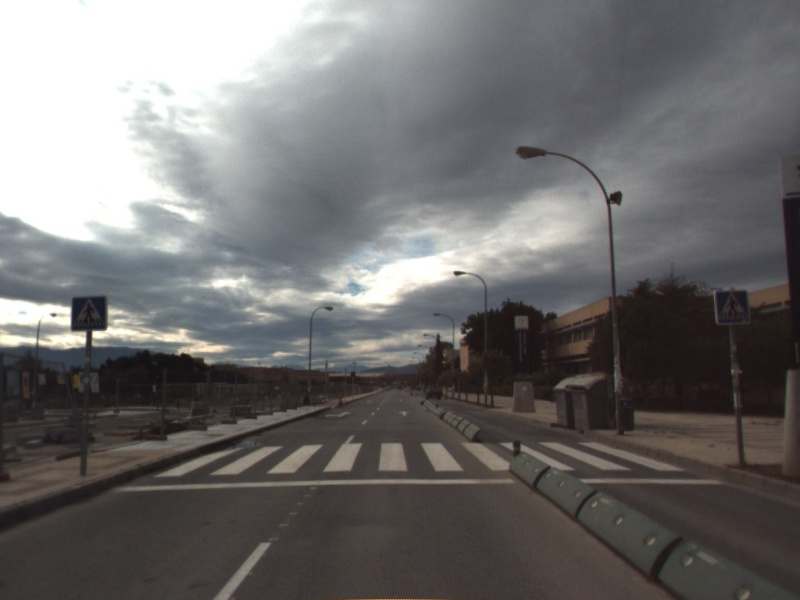STRAIGHT: (396, 408, 412, 418)
STRAIGHT_LEFT: (322, 409, 354, 420)
